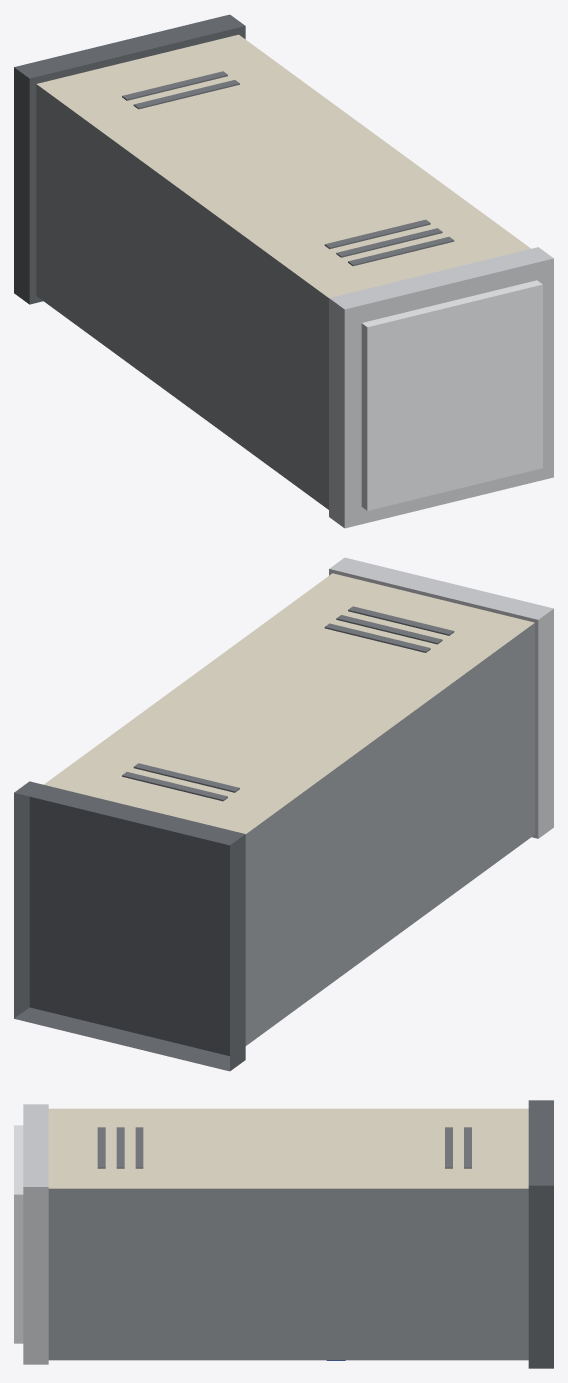
File: gatcha.obj
3 views of the same model, one above another, from view 1: azimuth 30°, elevation 25°; view 2: azimuth 150°, elevation 25°; view 3: azimuth 270°, elevation 25° (orthographic). The views are drawn at different scales.
Bounding box in the file's own units: 0.64 × 0.655 × 1.71.
Materials: 1 (1 with a texture image).
